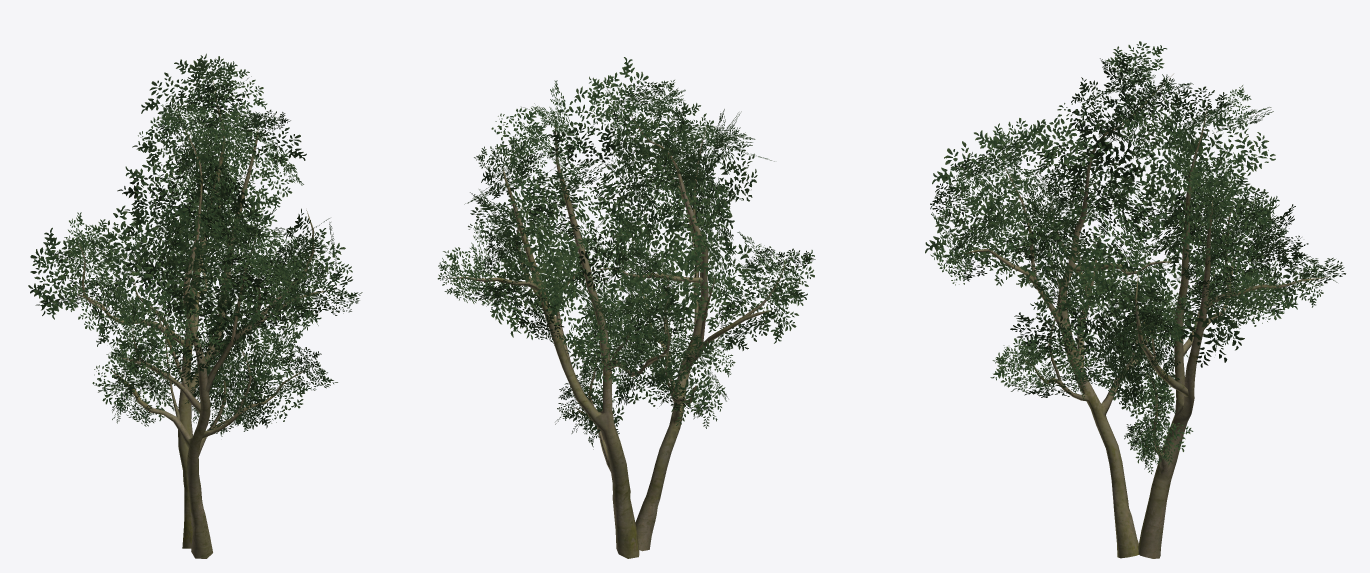
The model's file is MiddleTree.fbx.
The picture shows the model from 3 angles, left to right: view 1: azimuth 30°, elevation 25°; view 2: azimuth 150°, elevation 25°; view 3: azimuth 270°, elevation 25°; orthographic projection. The views are drawn at different scales.
Parts seen in each view (by area): view 1: 0000_SM_d_114_MiddleTree_01a, 0001_SM_d_114_MiddleTree_01a; view 2: 0000_SM_d_114_MiddleTree_01a, 0001_SM_d_114_MiddleTree_01a; view 3: 0000_SM_d_114_MiddleTree_01a, 0001_SM_d_114_MiddleTree_01a.
Part boxes in pixels (left/top/right/bottom): 0000_SM_d_114_MiddleTree_01a: left=28, top=53, right=362, bottom=436; 0001_SM_d_114_MiddleTree_01a: left=72, top=79, right=328, bottom=558; 0000_SM_d_114_MiddleTree_01a: left=437, top=57, right=815, bottom=449; 0001_SM_d_114_MiddleTree_01a: left=444, top=113, right=784, bottom=558; 0000_SM_d_114_MiddleTree_01a: left=925, top=41, right=1345, bottom=473; 0001_SM_d_114_MiddleTree_01a: left=964, top=74, right=1330, bottom=558.
Bounding box in the file's own units: 7.56 × 11.95 × 9.35.
